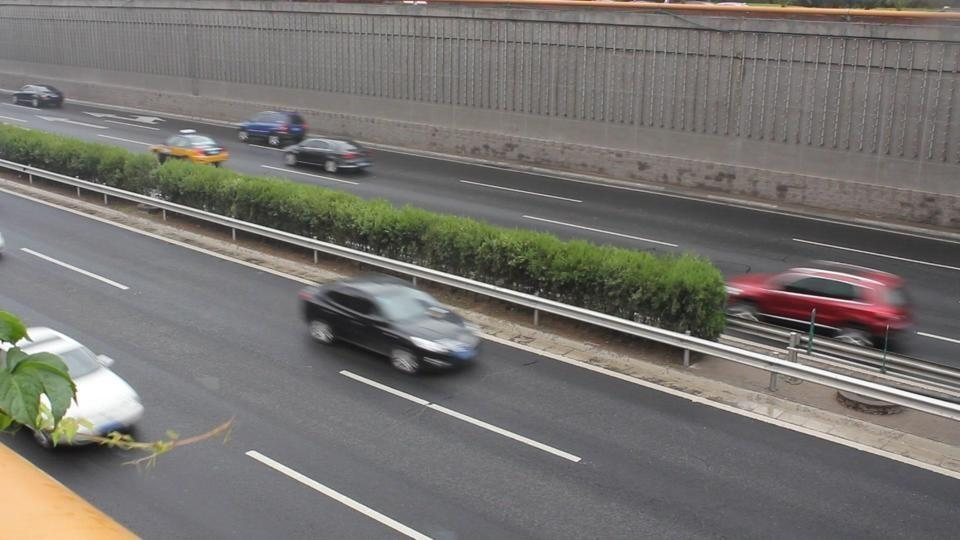car: (1, 319, 144, 450), (297, 278, 483, 375), (723, 262, 919, 347), (282, 137, 376, 175), (150, 130, 230, 167), (237, 109, 308, 147), (14, 82, 65, 109), (0, 228, 7, 260)
